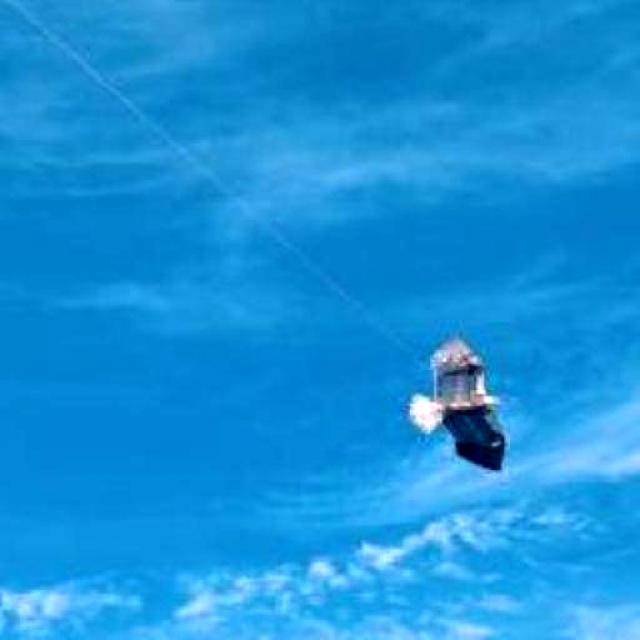airplane: (402, 332, 514, 474)
